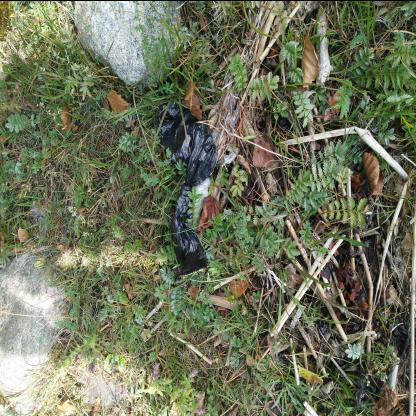plastik: (157, 97, 218, 274)
